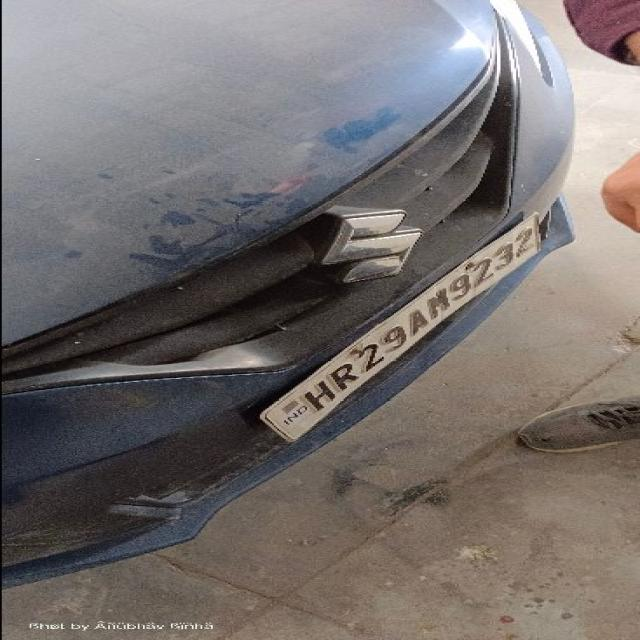license_plate: (2, 0, 577, 588), (254, 210, 546, 443)
